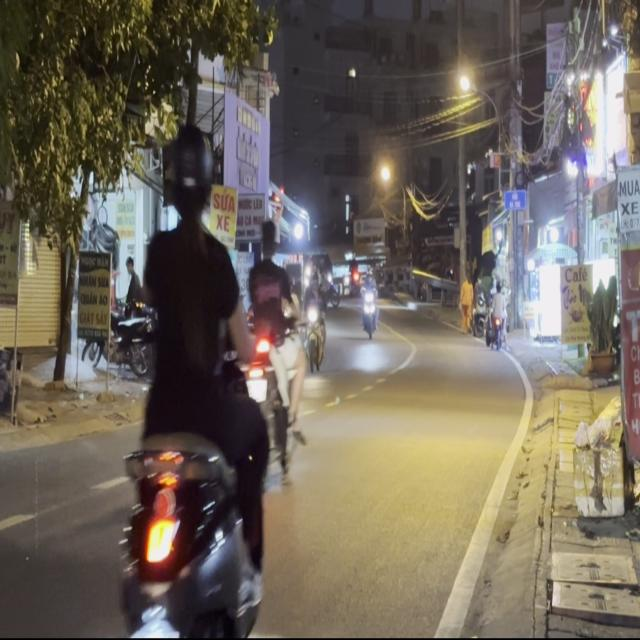helmet: (161, 123, 214, 224)
licenseplate: (114, 118, 277, 633), (240, 216, 313, 474)
motorcyclist: (259, 218, 277, 264)
